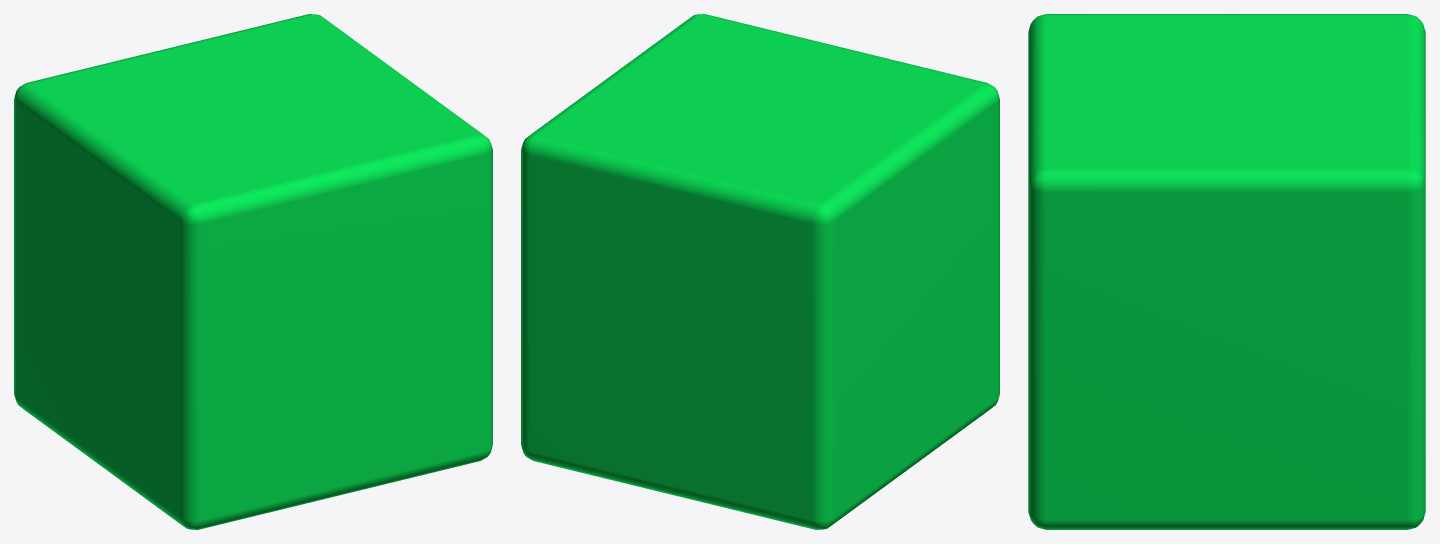
Rendered from Block.fbx.
3 renders of one model, left to right at view 1: azimuth 30°, elevation 25°; view 2: azimuth 150°, elevation 25°; view 3: azimuth 270°, elevation 25°, orthographic. The views are drawn at different scales.
Parts seen in each view (by area): view 1: Block; view 2: Block; view 3: Block.
Part boxes in pixels (x1=…): Block: x1=14, y1=14, x2=492, y2=529; Block: x1=521, y1=14, x2=999, y2=529; Block: x1=1028, y1=14, x2=1425, y2=529.
Size of the model in its own units: 200 by 200 by 200.
